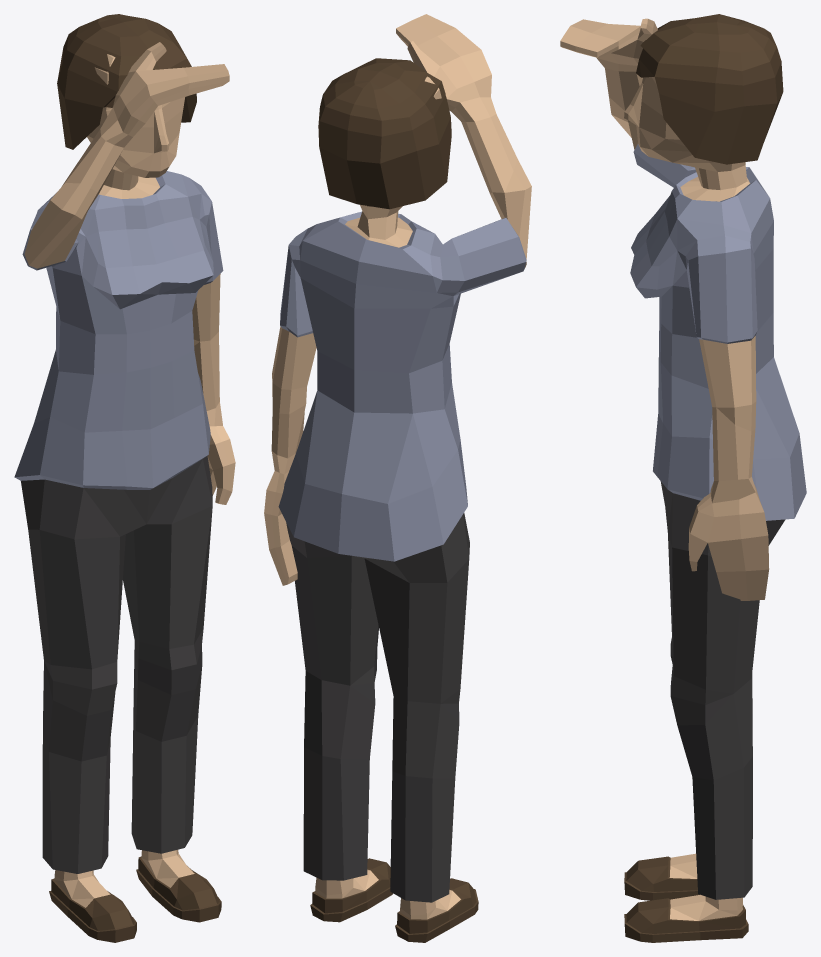
The model's file is Female_Standing_CoveringEyes.glb.
The picture shows the model from 3 angles, left to right: view 1: azimuth 30°, elevation 25°; view 2: azimuth 150°, elevation 25°; view 3: azimuth 270°, elevation 25°; orthographic projection. The views are drawn at different scales.
Parts seen in each view (by area): view 1: Female_Standing_CoveringEyes; view 2: Female_Standing_CoveringEyes; view 3: Female_Standing_CoveringEyes.
Part boxes in pixels (x1=…): Female_Standing_CoveringEyes: x1=14, y1=14, x2=235, y2=942; Female_Standing_CoveringEyes: x1=264, y1=14, x2=531, y2=942; Female_Standing_CoveringEyes: x1=560, y1=14, x2=806, y2=942.
Bounding box in the file's own units: 0.4578 × 1.69 × 0.4219.
